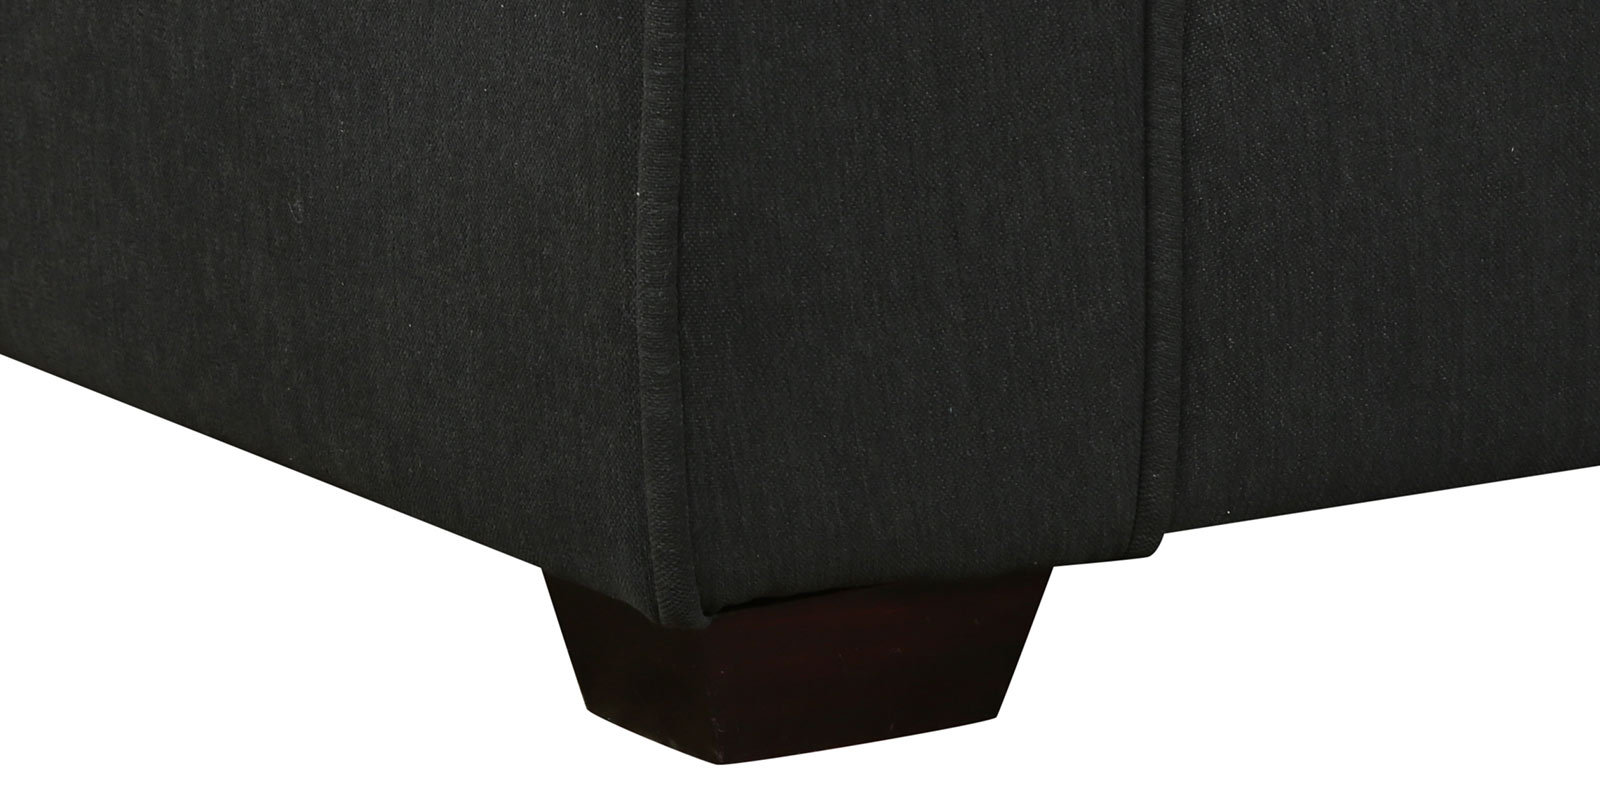Hugo Three Seater Sofa in Charcoal Grey Colour by CasaCraft: (6, 3, 1599, 770)
